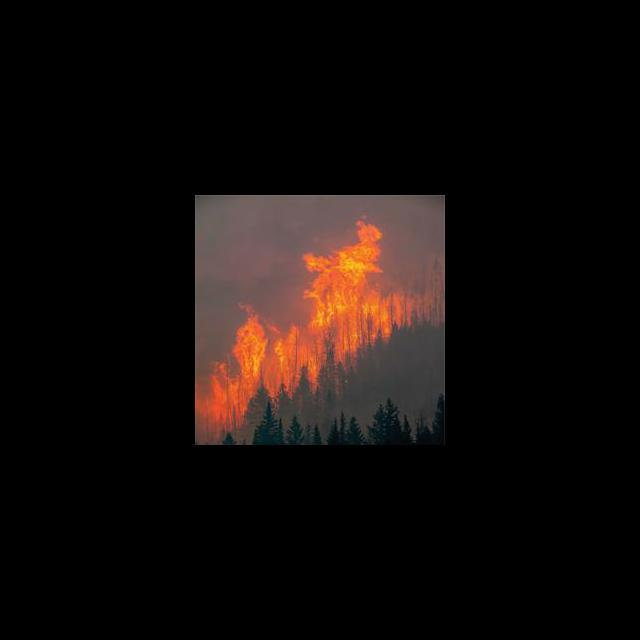Fire: (208, 217, 414, 423)
